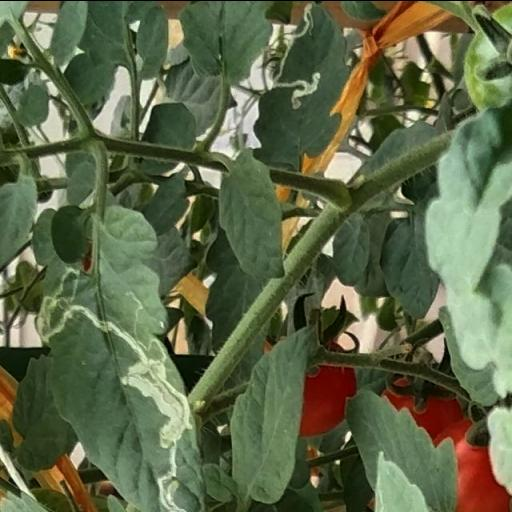Healthy: (228, 320, 318, 504), (214, 145, 286, 281)
Leaf Miner: (32, 203, 208, 512), (251, 0, 352, 168)
